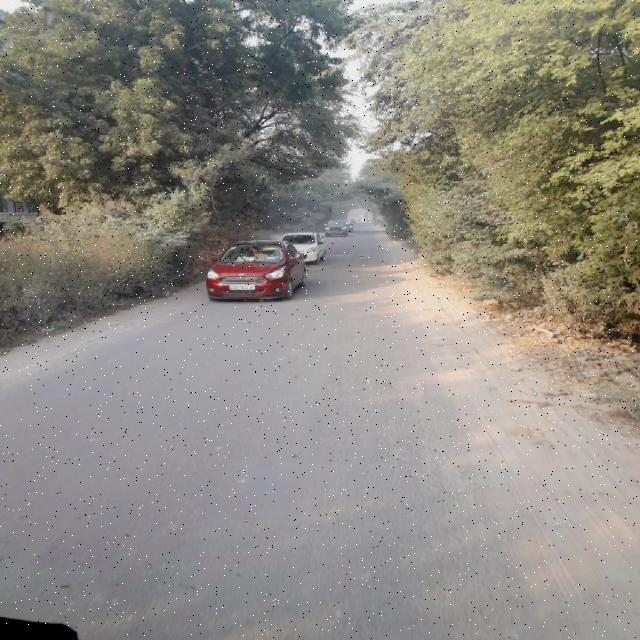D40: (379, 367, 444, 416)
